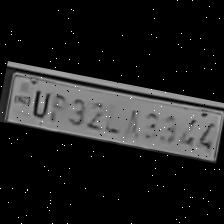2: (82, 95, 108, 131)
3: (64, 91, 89, 127), (155, 108, 180, 144)
4: (174, 110, 200, 146), (194, 114, 218, 149)
P: (47, 89, 69, 122)
U: (26, 84, 54, 118)
